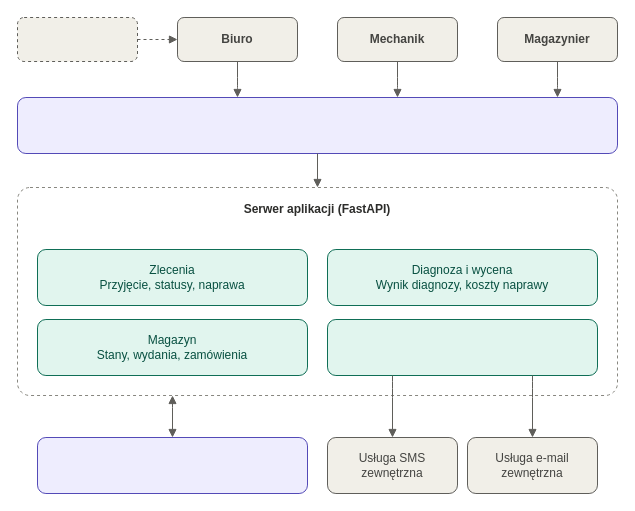
The diagram is 635 pixels wide and 511 high, and some of its shapes have lost their labels. Here are the shapes that lost their labels. From the top down, the centre of each, then its label:
At point 77,39: "Klient".
At point 317,125: "Aplikacja webowa Widoki wg ról: biuro, mechanik, magazynier".
At point 462,347: "Powiadomienia Wysyłka SMS/e-mail, ponawianie".
At point 172,465: "Baza danych Zlecenia, części, historia".
